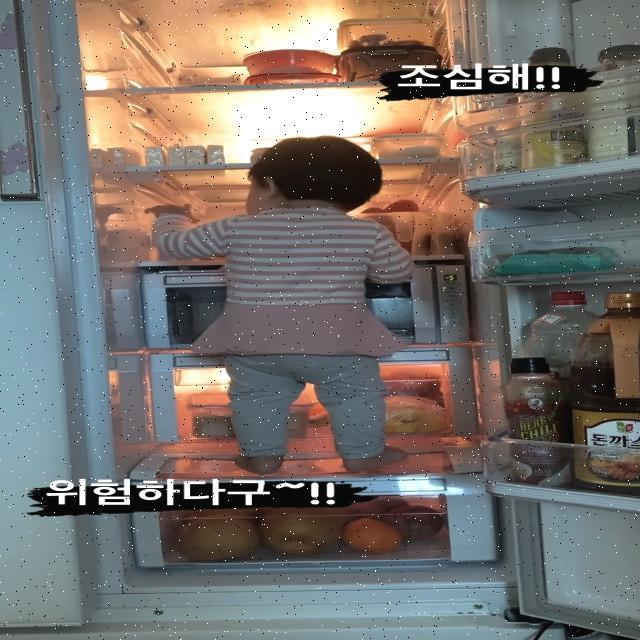child: (159, 138, 421, 478)
